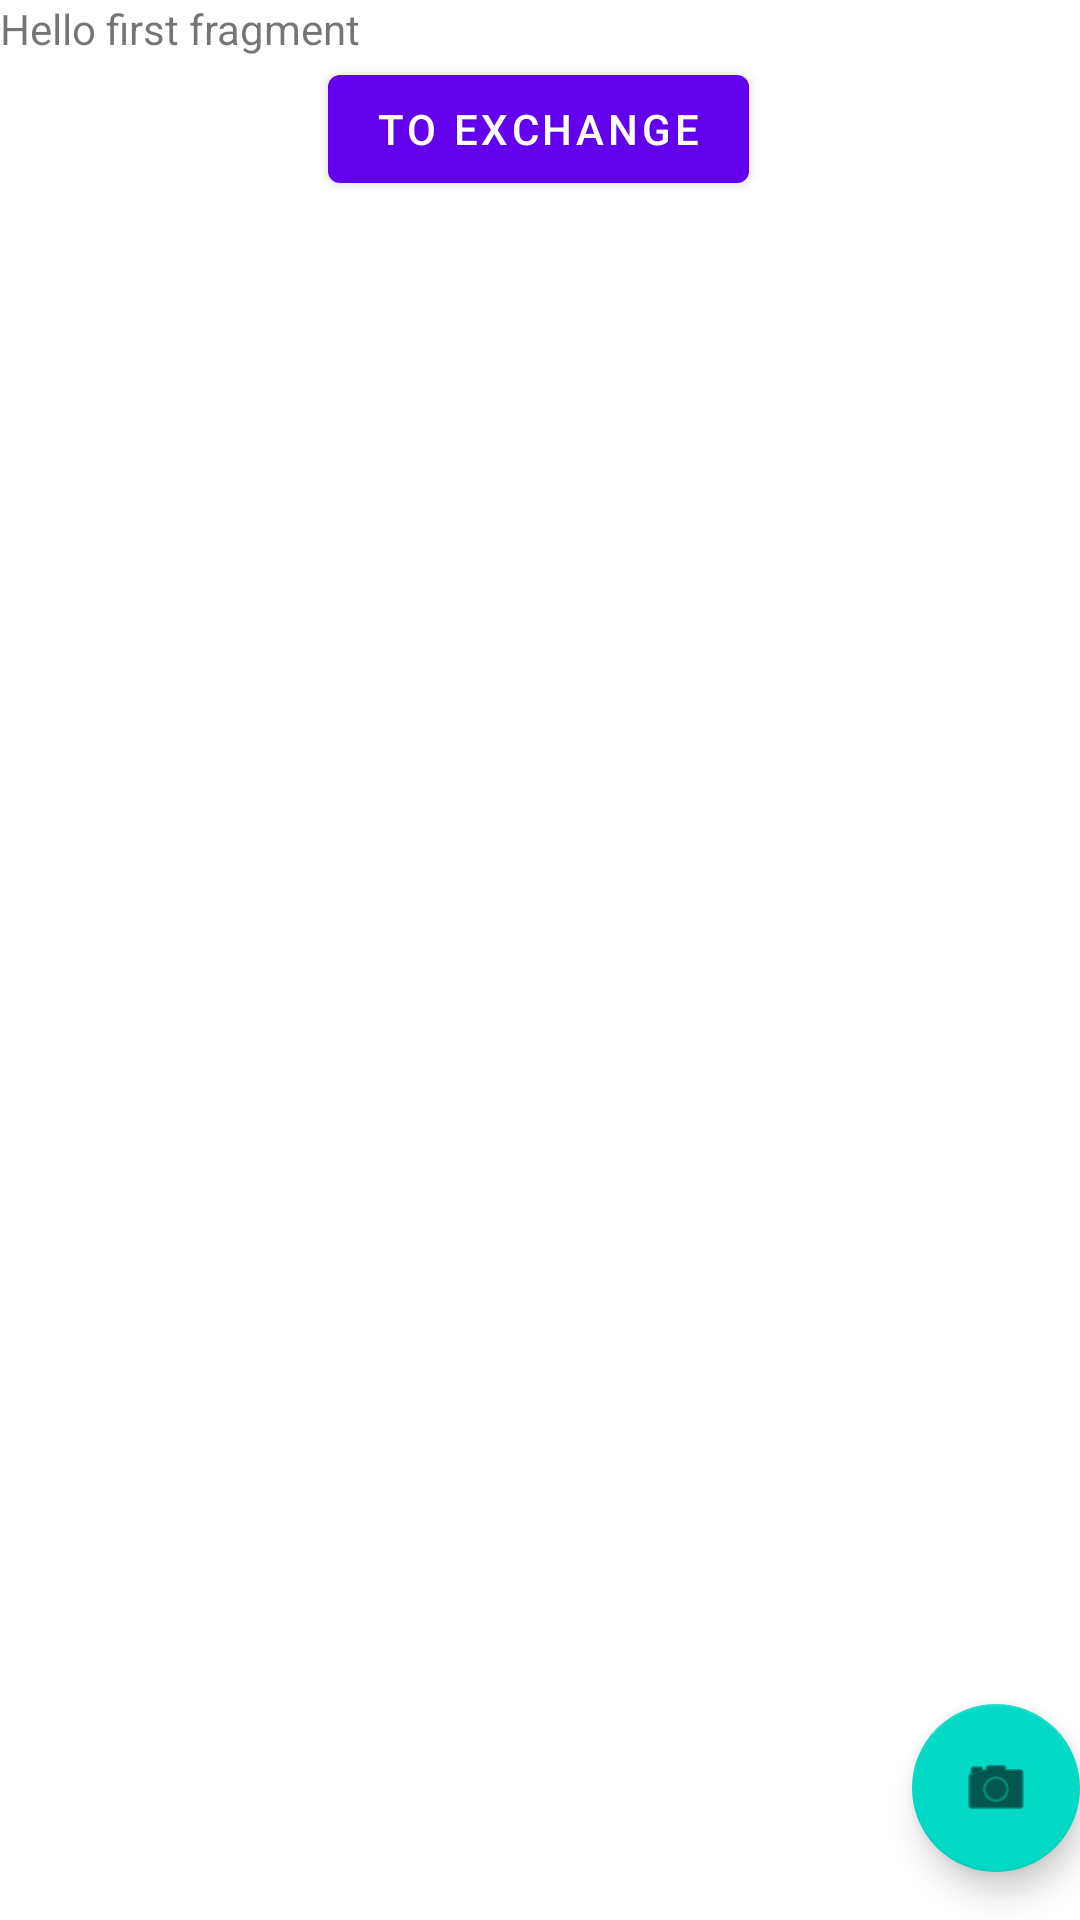

Where to tap for icons on this 1080x1920 app screen, as (x,y):
camera: (996,1788)
